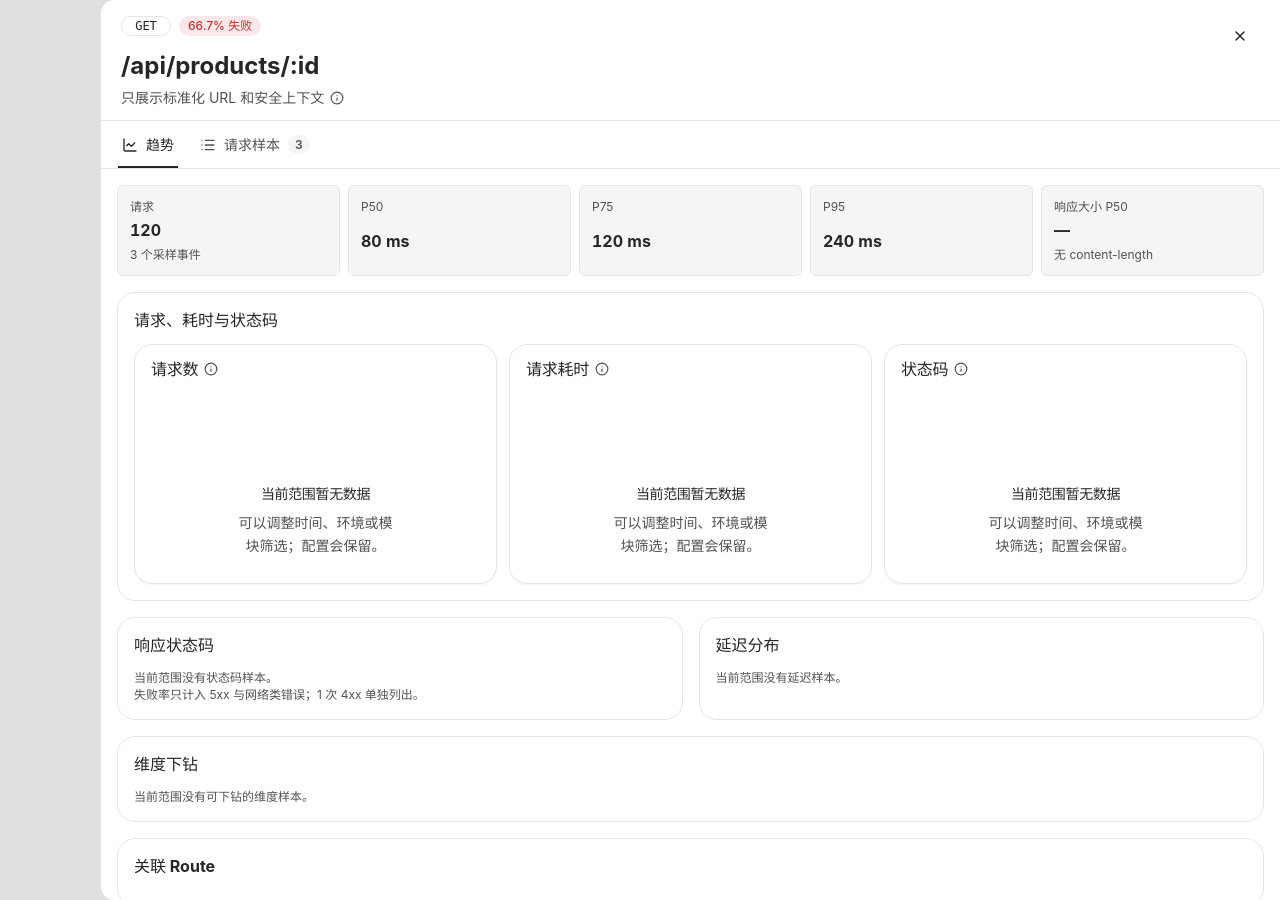
Scenario: ApiDetail › keeps the header to one line and puts the privacy note behind an info button
Expected: the text "只展示标准化 URL 和安全上下文" does not show "Cookie"
Hover over the button named "查看隐私说明" at (337, 98), box [328,89,346,107]
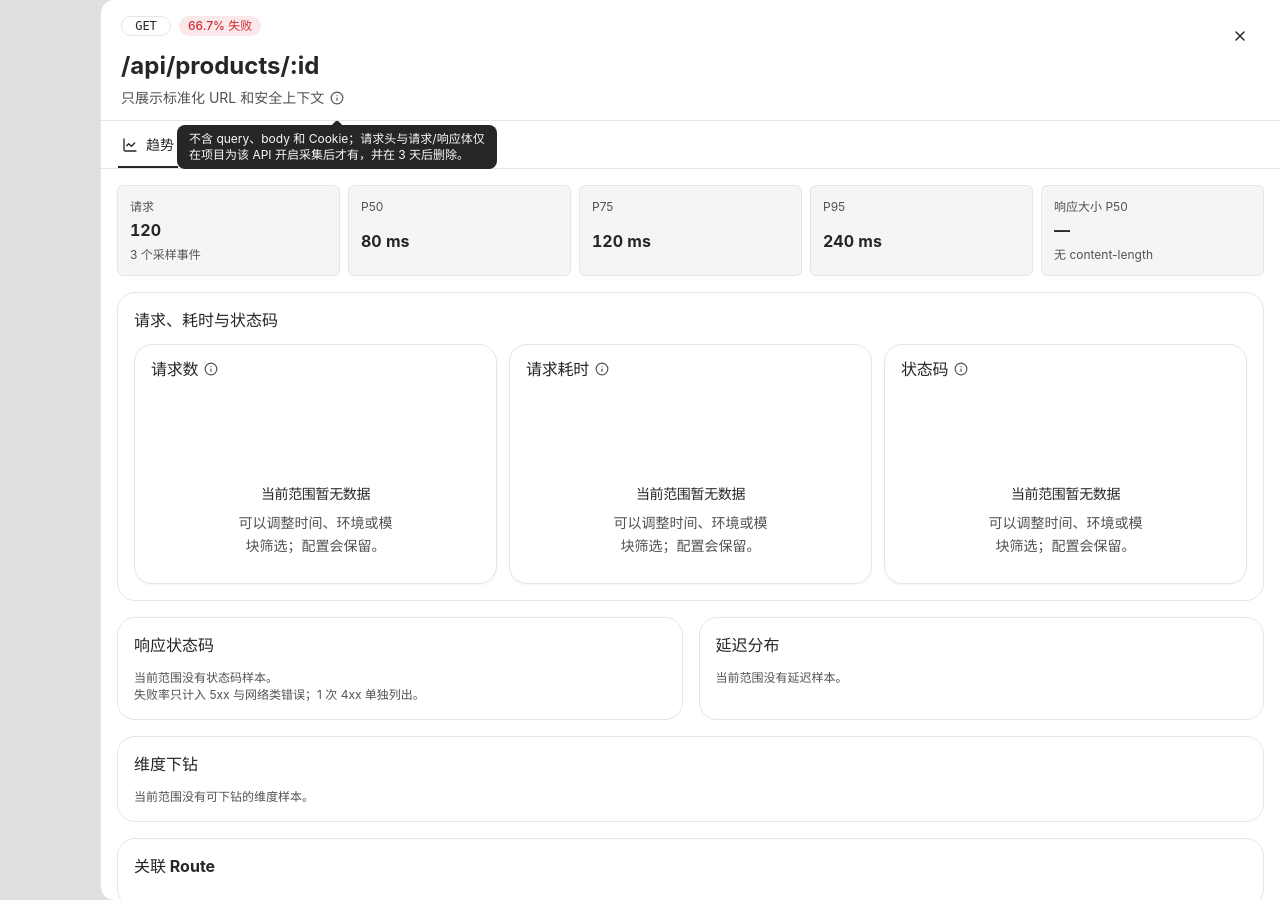
Now the tooltip "不含 query、body 和 Cookie" is shown, box [189,131,485,162]
